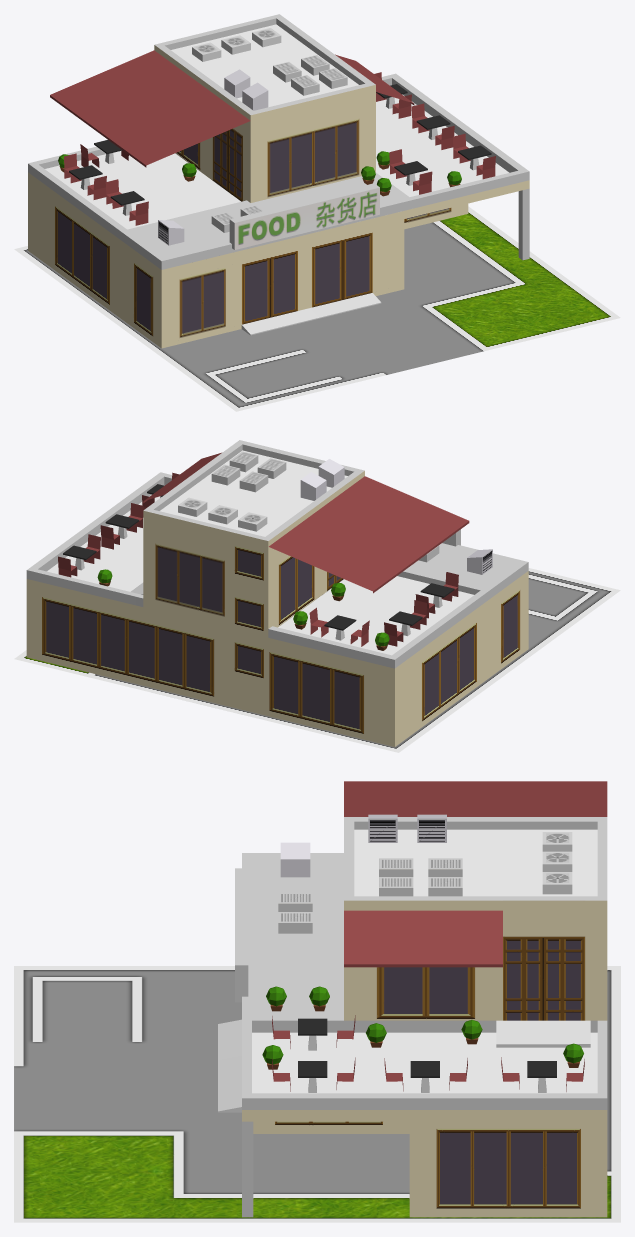
The model's file is Supermarket_lvl_3.fbx.
3 views of the same model, one above another, from view 1: azimuth 30°, elevation 25°; view 2: azimuth 150°, elevation 25°; view 3: azimuth 270°, elevation 25° (orthographic). The views are drawn at different scales.
Visible parts, largest first — view 1: Supermarket_Lvl_3, Supermarket_BG, Supermarket_Lvl_2.001; view 2: Supermarket_Lvl_3, Supermarket_Lvl_2.001, Supermarket_BG; view 3: Supermarket_Lvl_3, Supermarket_BG, Supermarket_Lvl_2.001.
Part boxes in pixels (x1,y1,x2,y2): Supermarket_Lvl_3: (28, 14, 529, 348); Supermarket_BG: (14, 206, 620, 411); Supermarket_Lvl_2.001: (50, 50, 495, 225); Supermarket_Lvl_3: (26, 440, 528, 746); Supermarket_Lvl_2.001: (58, 452, 469, 646); Supermarket_BG: (14, 568, 620, 752); Supermarket_Lvl_3: (218, 814, 607, 1217); Supermarket_BG: (14, 966, 620, 1222); Supermarket_Lvl_2.001: (272, 781, 607, 1091).
Bounding box in the file's own units: 2000 × 931 × 2000.
